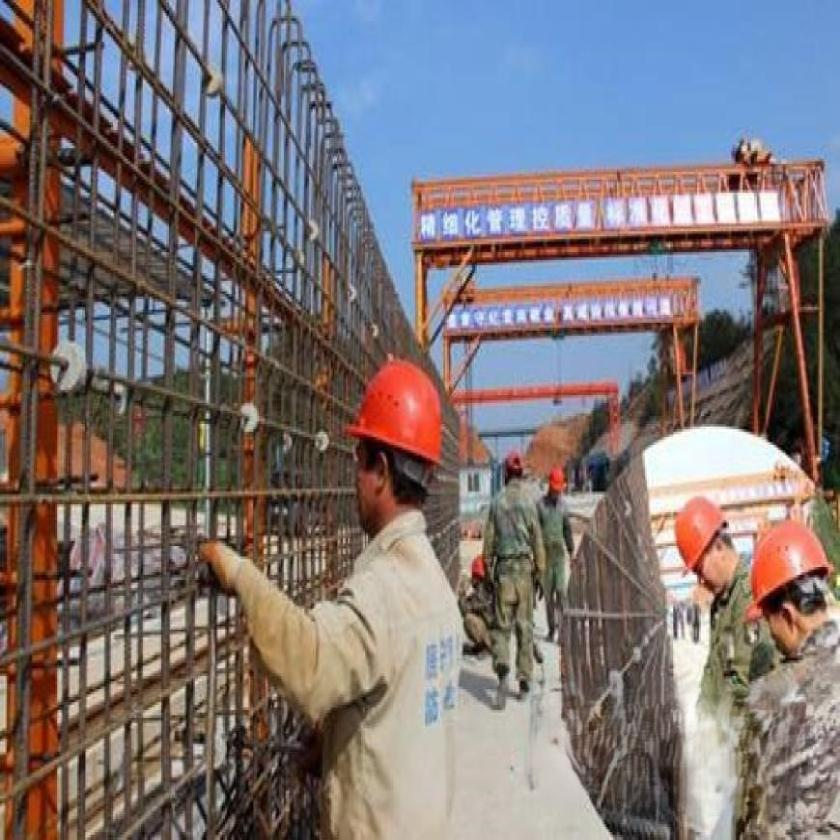Con_casco: (348, 320, 440, 515), (753, 508, 839, 672), (662, 471, 735, 594)
